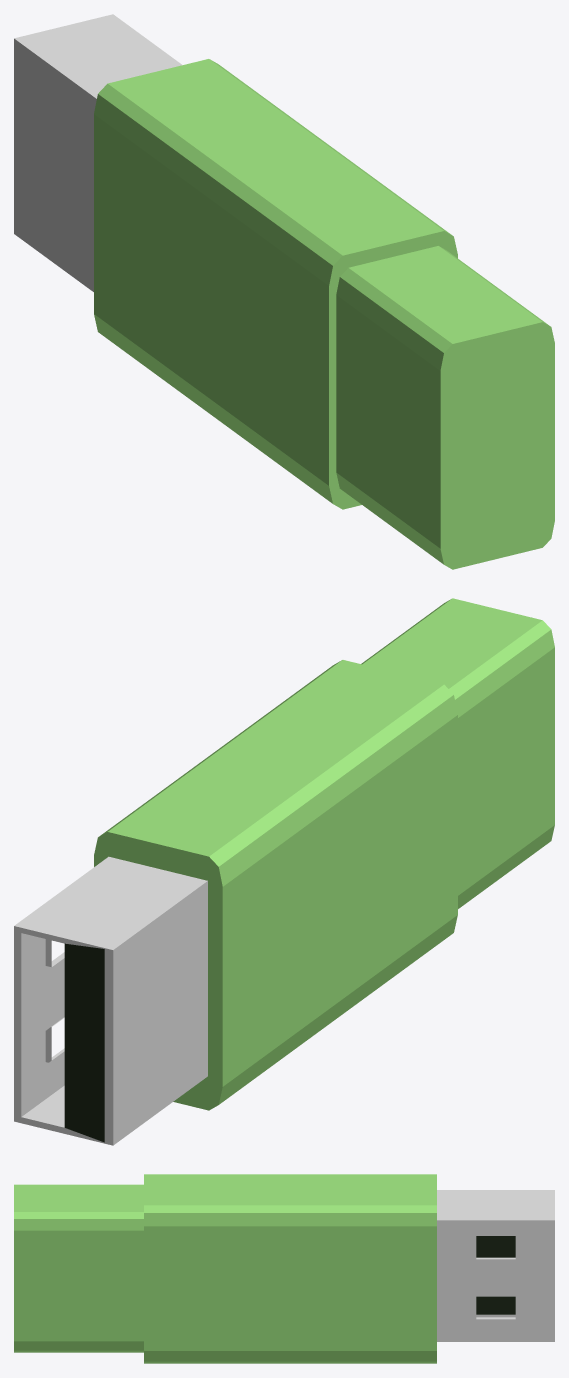
Rendered from FLASH.fbx.
The picture shows the model from 3 angles, top to bottom: view 1: azimuth 30°, elevation 25°; view 2: azimuth 150°, elevation 25°; view 3: azimuth 270°, elevation 25°; orthographic projection. The views are drawn at different scales.
Parts seen in each view (by area): view 1: Cube; view 2: Cube; view 3: Cube.
Part boxes in pixels (x1,y1,x2,y2): Cube: (14,14,554,569); Cube: (14,598,554,1145); Cube: (14,1174,554,1363).
Bounding box in the file's own units: 89.5 × 169 × 522.
